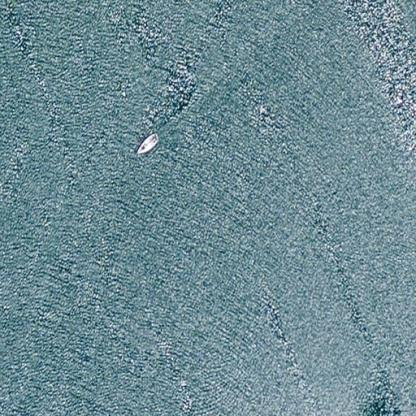ship: (129, 124, 163, 160)
